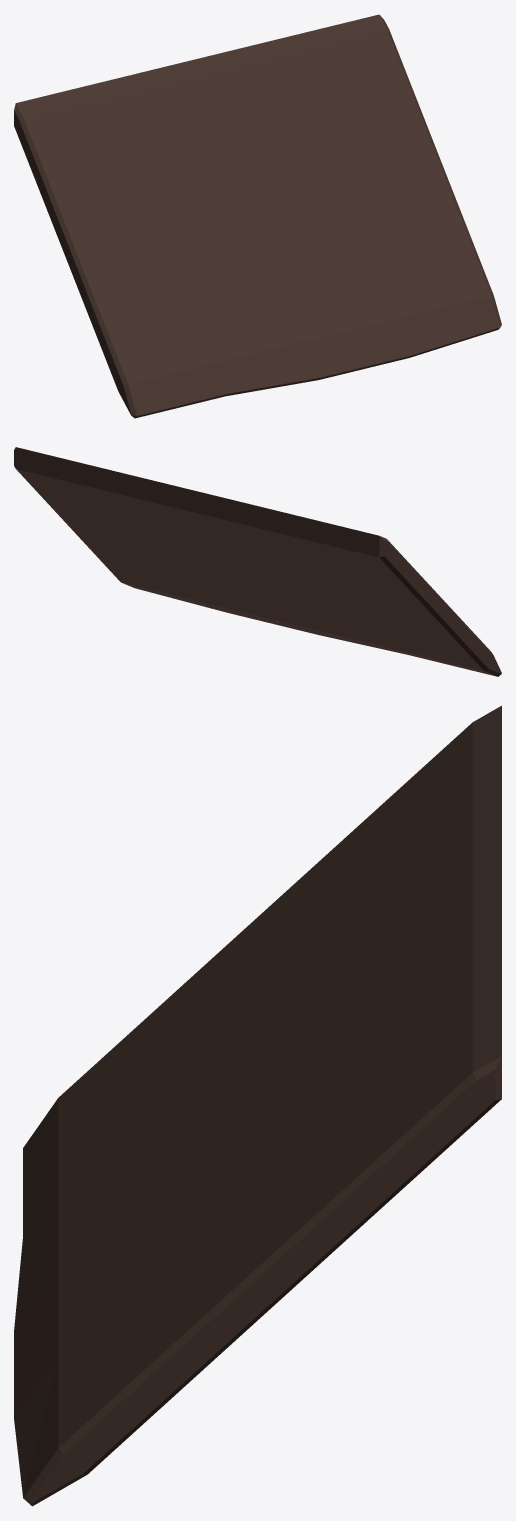
File: 4x2x2Roof.fbx
The picture shows the model from 3 angles, top to bottom: view 1: azimuth 30°, elevation 25°; view 2: azimuth 150°, elevation 25°; view 3: azimuth 270°, elevation 25°; orthographic projection. The views are drawn at different scales.
Visible parts, largest first — view 1: 4x2x2Roof; view 2: 4x2x2Roof; view 3: 4x2x2Roof.
Boxes of the visible parts, box(x1,y1,x2,y2) form: 4x2x2Roof: box(14, 14, 501, 418); 4x2x2Roof: box(14, 447, 501, 676); 4x2x2Roof: box(14, 705, 501, 1506).
Size of the model in its own units: 408 by 244 by 236.
